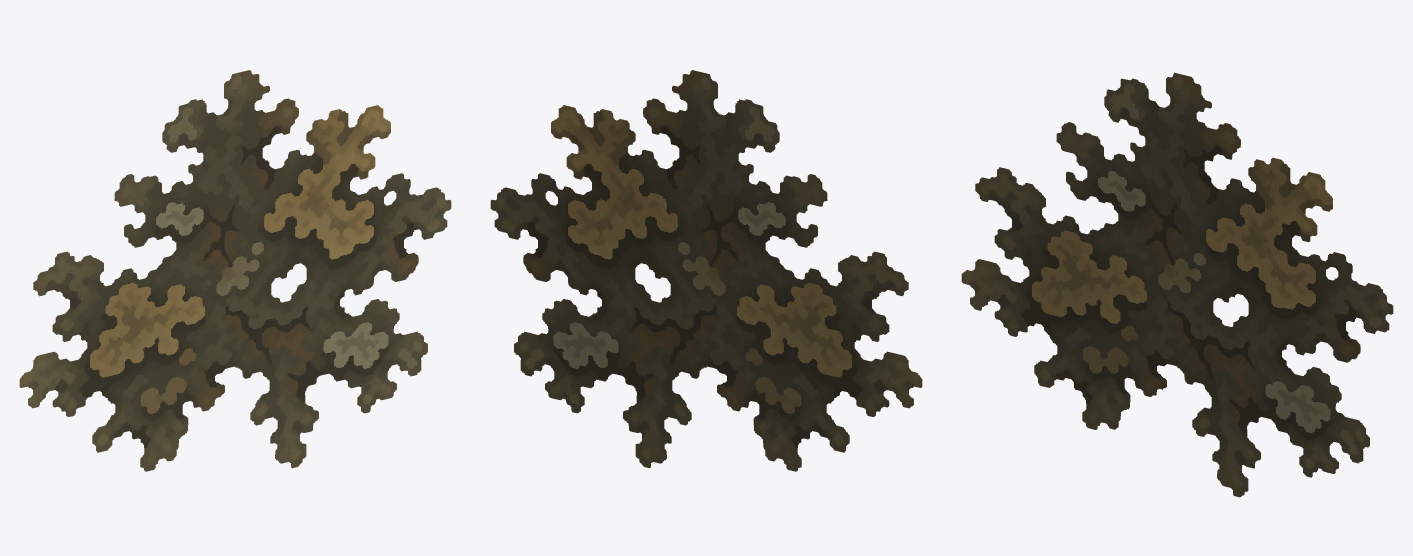
Rendered from SM_D09_LichenDark.fbx.
3 renders of one model, left to right at view 1: azimuth 30°, elevation 25°; view 2: azimuth 150°, elevation 25°; view 3: azimuth 330°, elevation 25°, orthographic.
Visible parts, largest first — view 1: D09_Decal; view 2: D09_Decal; view 3: D09_Decal.
Part boxes in pixels (<box>): D09_Decal: <box>19,70,451,471</box>; D09_Decal: <box>490,70,922,471</box>; D09_Decal: <box>961,72,1393,497</box>.
Bounding box in the file's own units: 0.4 × 0.363 × 0.
